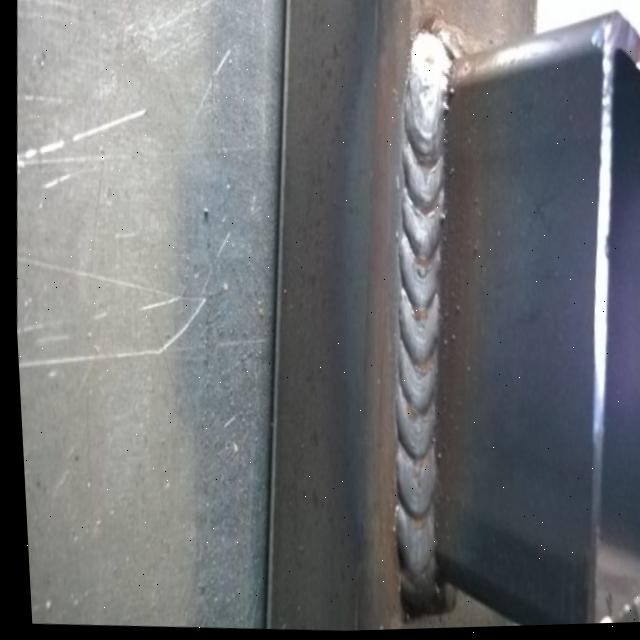Dry: (360, 65, 470, 607)
